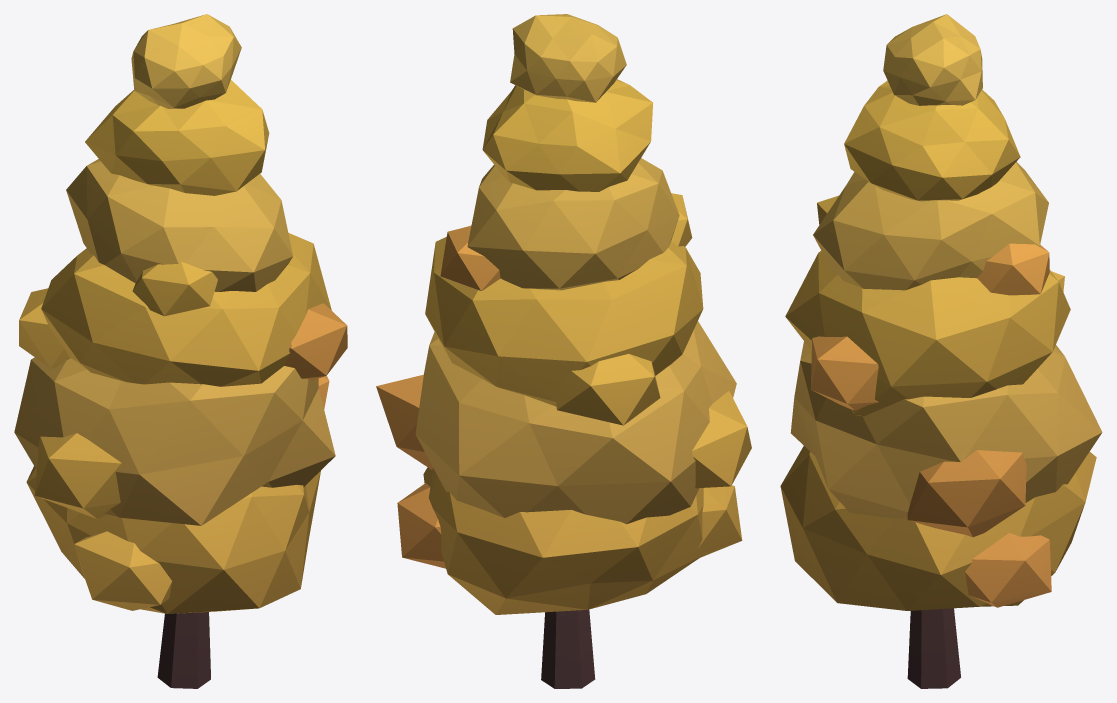
File: ginkgo.glb
The picture shows the model from 3 angles, left to right: view 1: azimuth 30°, elevation 25°; view 2: azimuth 150°, elevation 25°; view 3: azimuth 270°, elevation 25°; orthographic projection.
Parts seen in each view (by area): view 1: ginkgo; view 2: ginkgo; view 3: ginkgo.
Boxes of the visible parts, bbox=[...] form: ginkgo: bbox=[14, 14, 347, 688]; ginkgo: bbox=[376, 14, 751, 688]; ginkgo: bbox=[780, 14, 1102, 688].
Bounding box in the file's own units: 4.38 × 8.77 × 3.9.
